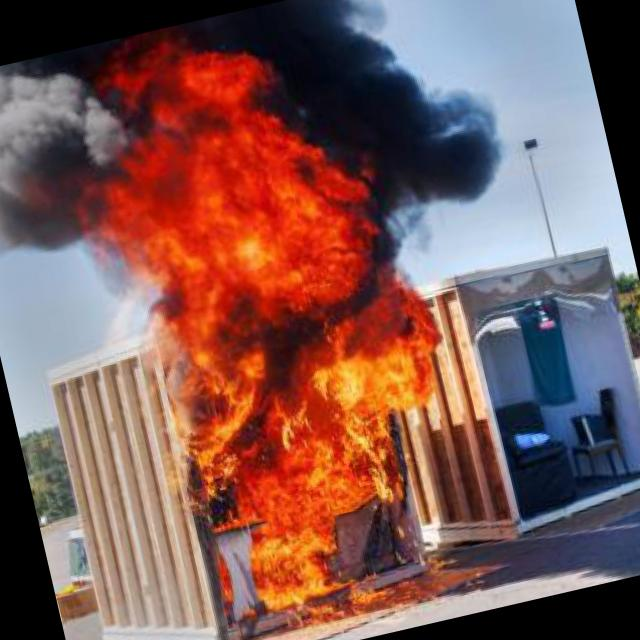fire: (80, 17, 491, 640)
smoke: (294, 0, 541, 237)
